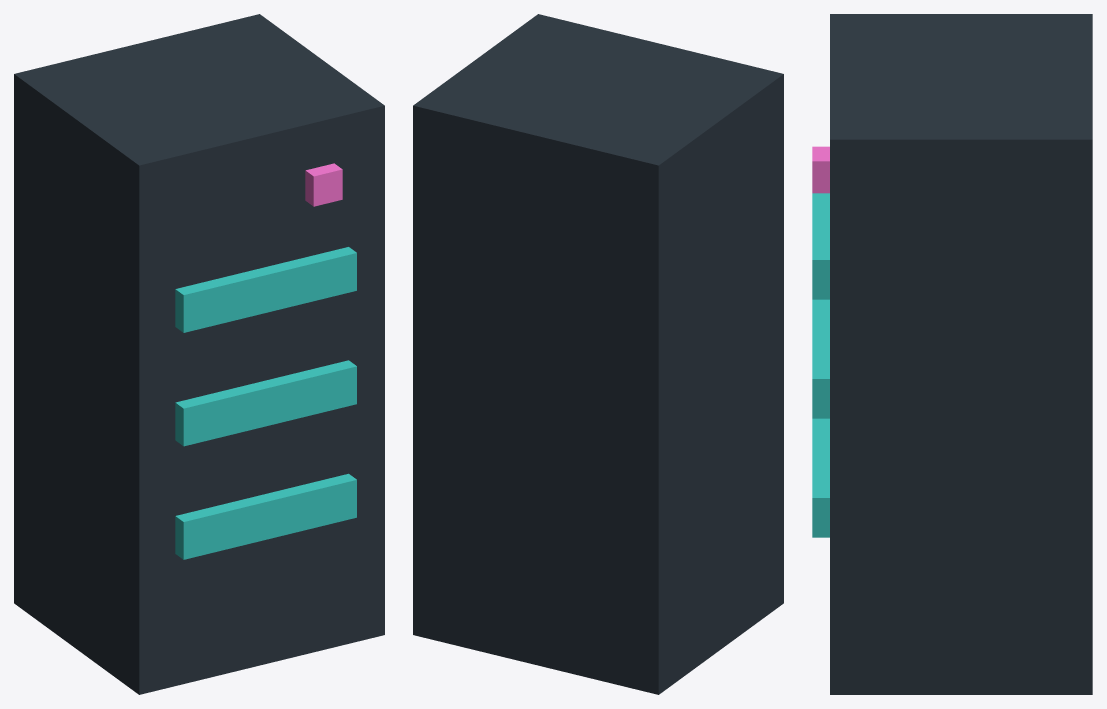
Rendered from server-rack.glb.
3 views of the same model, side by side, from view 1: azimuth 30°, elevation 25°; view 2: azimuth 150°, elevation 25°; view 3: azimuth 270°, elevation 25° (orthographic). The views are drawn at different scales.
Visible parts, largest first — view 1: lab-server-rack; view 2: lab-server-rack; view 3: lab-server-rack.
Boxes of the visible parts, bbox=[...] form: lab-server-rack: bbox=[14, 14, 384, 694]; lab-server-rack: bbox=[413, 14, 783, 694]; lab-server-rack: bbox=[812, 14, 1092, 694].
Bounding box in the file's own units: 0.34 × 0.7 × 0.32.
